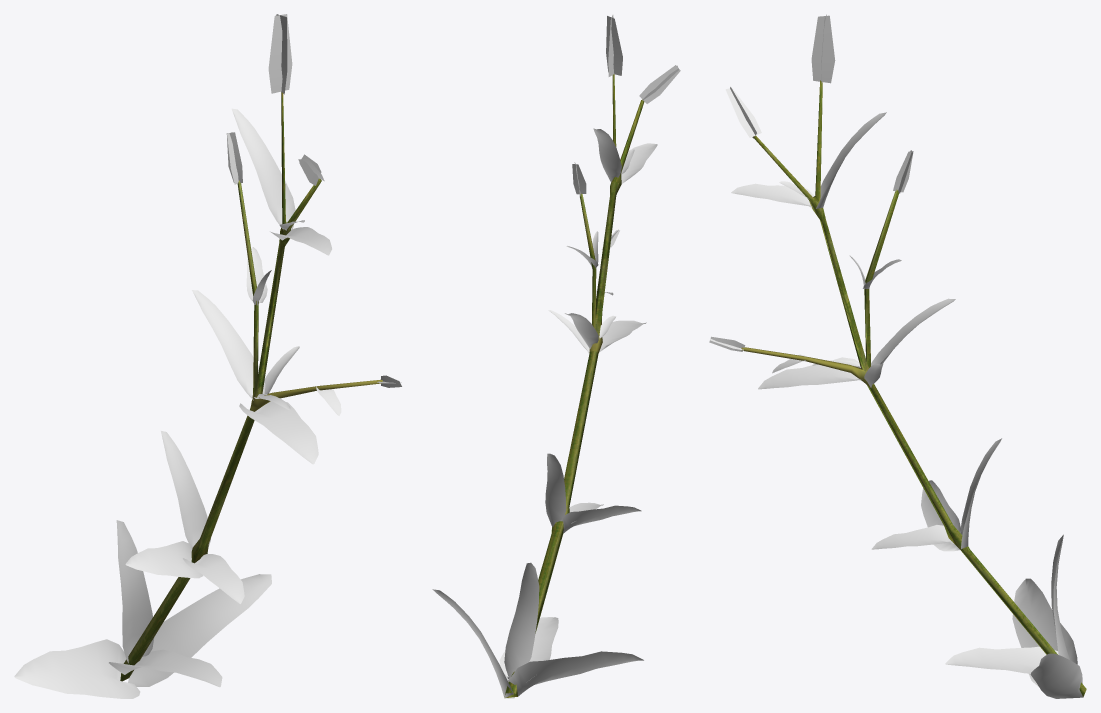
The model's file is Vegetative.glb.
3 renders of one model, left to right at view 1: azimuth 30°, elevation 25°; view 2: azimuth 150°, elevation 25°; view 3: azimuth 270°, elevation 25°, orthographic. The views are drawn at different scales.
Parts seen in each view (by area): view 1: Flower_Cerastium-arvense_G_spring-summer; view 2: Flower_Cerastium-arvense_G_spring-summer; view 3: Flower_Cerastium-arvense_G_spring-summer.
Boxes of the visible parts, box(x1,y1,x2,y2) form: Flower_Cerastium-arvense_G_spring-summer: box(14, 14, 401, 698); Flower_Cerastium-arvense_G_spring-summer: box(432, 15, 680, 698); Flower_Cerastium-arvense_G_spring-summer: box(709, 14, 1086, 698).
Bounding box in the file's own units: 0.0525 × 0.146 × 0.0726.
Materials: 3 (1 with a texture image).
